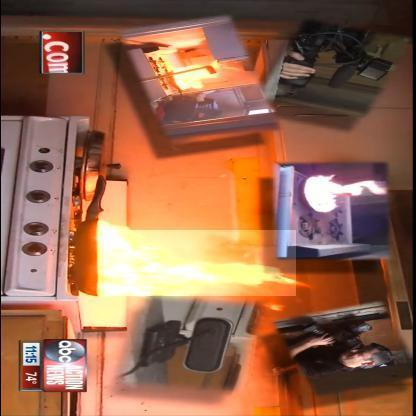Fire: (92, 209, 301, 304)
